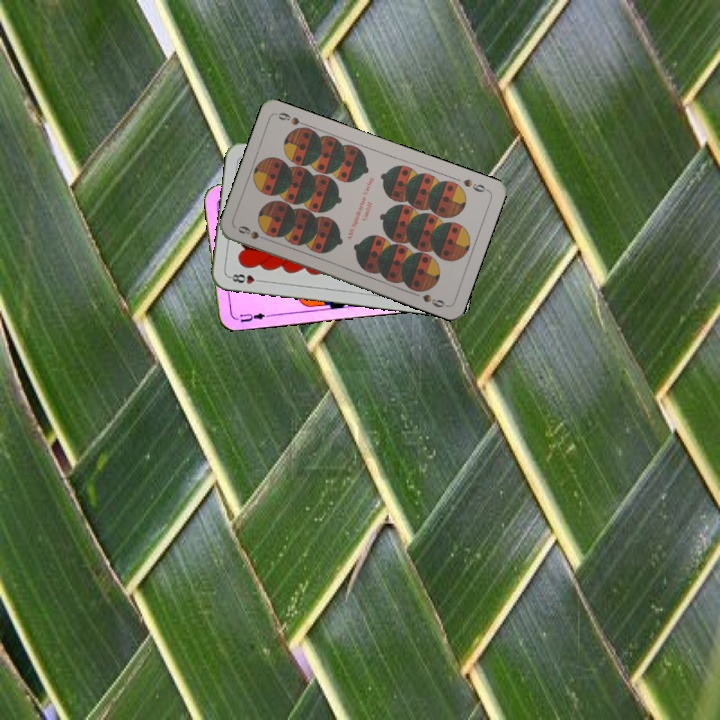EU: (229, 307, 270, 325)
H8: (225, 270, 266, 286)
S9: (233, 222, 272, 244), (459, 175, 491, 195)
